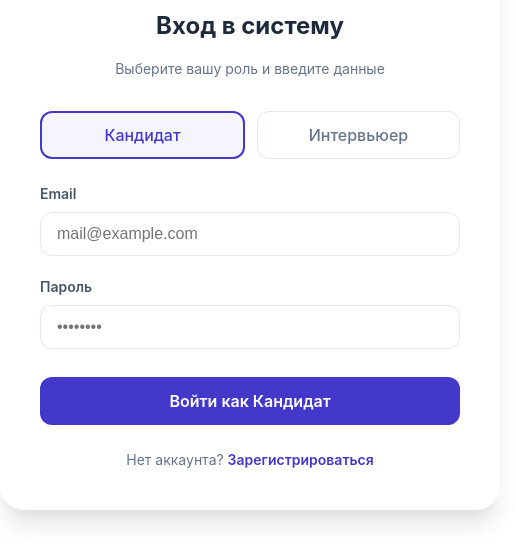
Test: LoginForm component › switches role when interviewer button is clicked
Step 1. Click the button "Интервьюер" → [358, 135], box left=257, top=111, right=460, bottom=159
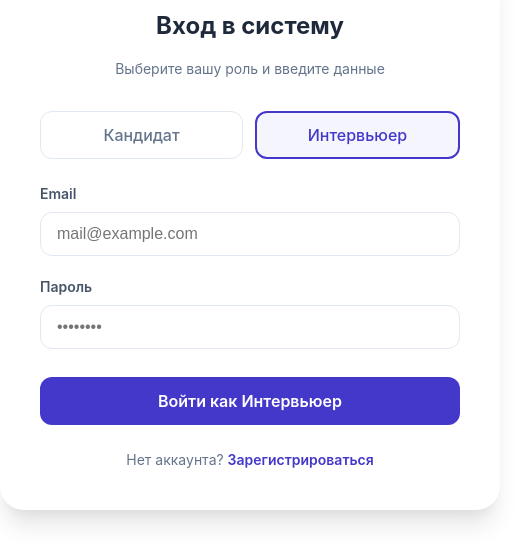
Expected: the button "Войти как Интервьюер" is shown, left=40, top=377, right=460, bottom=425
